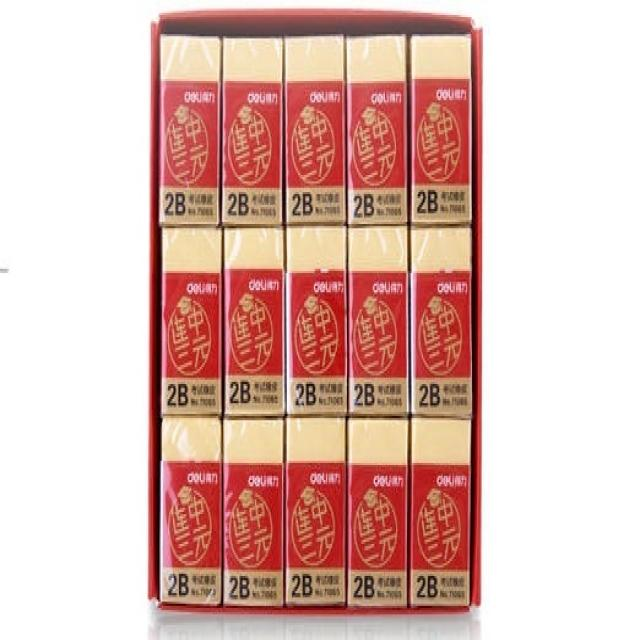box: (407, 228, 474, 420), (156, 34, 221, 228), (283, 34, 346, 226), (158, 418, 222, 606), (410, 34, 473, 224), (411, 418, 473, 610), (159, 228, 222, 416), (223, 228, 286, 414), (348, 420, 411, 606), (347, 34, 408, 226), (348, 228, 410, 416), (284, 418, 346, 606), (286, 226, 347, 416), (223, 418, 284, 606), (222, 41, 283, 224)
